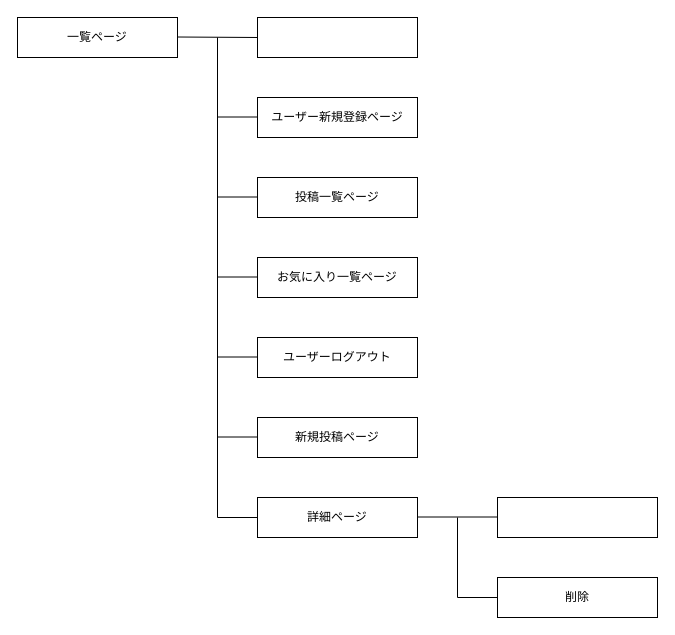
Image size: 675x635. Some labels were removed from this diagram. The centre of each missing label's shape, as x and y in pixels:
"ユーザーログインページ" goes at (337,37).
"編集ページ" goes at (577,517).
